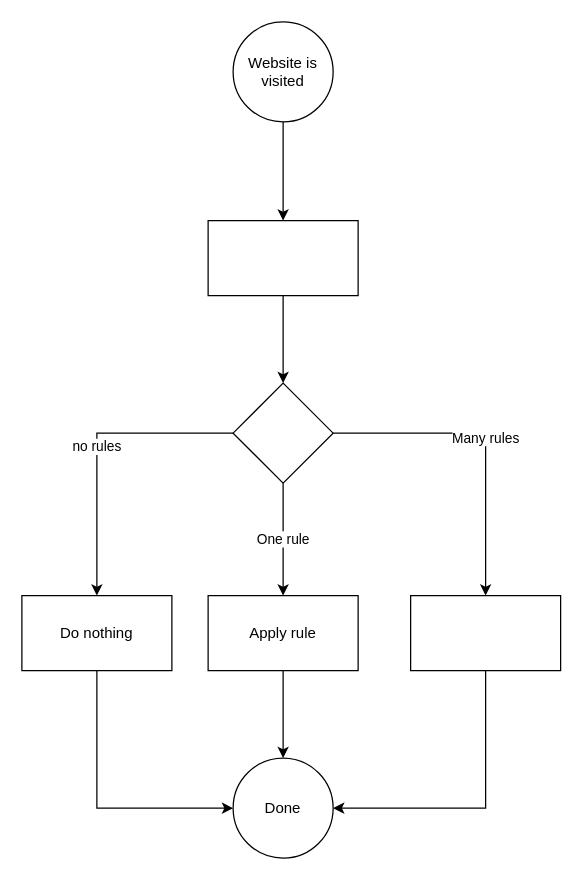
Image size: 583x880. Some labels were removed from this diagram. Here are the shapes that lost their labels. From the top down, the centre of each, then its label:
point 282,257: Collect all rules
point 485,632: Prioritize rules
